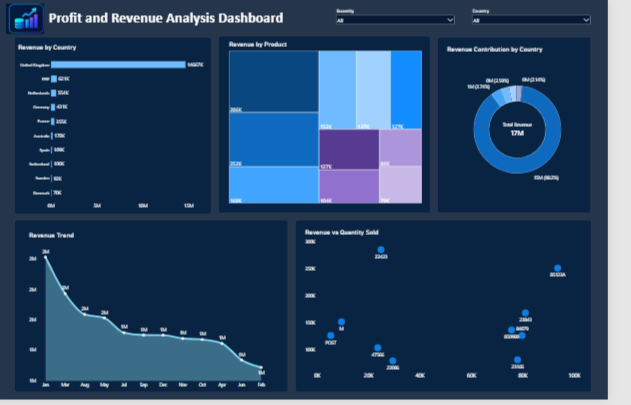

The page's visual inventory and layout, read from the dashboard file:
{"tool":"powerbi","page":{"name":"profit & Revenue dashboard","canvas":[3060,2000],"ordinal":7},"visuals":[{"type":"shape","box":[96,188,980,880],"z":0},{"type":"textbox","box":[265,44.2,1265,100.4],"z":1000},{"type":"clusteredBarChart","title":"Revenue by Country","fields":{"Category":["Factsales.Country"],"Y":["Factsales.Total Revenue"]},"box":[96,204,980,864],"z":2000},{"type":"shape","box":[1116,184,1056,880],"z":3000},{"type":"shape","box":[96,1104,1364,856],"z":4000},{"type":"treemap","title":"Revenue by Product","fields":{"Group":["Factsales.StockCode","Factsales.Description"],"Values":["Factsales.Total Revenue"]},"box":[1148,188,996,844],"z":5000},{"type":"shape","box":[1500,1104,1476,856],"z":6000},{"type":"lineChart","title":"Revenue Trend","fields":{"Category":["Factsales.Month"],"Y":["Factsales.Total Revenue"]},"box":[148,1144,1232,816],"z":7000},{"type":"shape","box":[2212,188,764,876],"z":8000},{"type":"scatterChart","title":"Revenue vs Quantity Sold","fields":{"Category":["Factsales.StockCode","Factsales.Description"],"X":["Factsales.Total Quantity Sold"],"Y":["Factsales.Total Revenue"]},"box":[1530,1132.4,1409.5,791.1],"z":9000},{"type":"donutChart","title":"Revenue Contribution by Country","fields":{"Category":["Factsales.Country"],"Y":["Factsales.Total Revenue"]},"box":[2240.8,212.8,734.9,819.2],"z":10000},{"type":"slicer","fields":{"Values":["Factsales.Country"]},"box":[2373.3,44.2,602.4,140.6],"z":11000},{"type":"slicer","fields":{"Values":["Factsales.Quantity"]},"box":[1694.6,44.2,602.4,120.5],"z":12000},{"type":"image","box":[32,20,232,152],"z":13000}]}

Visuals, with their boxes in screenshot pixels (x1, y1, x2, y2), scaled from the page's 3060x2000 canvas onto the 631x405 screenshot:
shape: 20,38,222,216
textbox: 55,9,316,29
"Revenue by Country" clusteredBarChart: 20,41,222,216
shape: 230,37,448,215
shape: 20,224,301,397
"Revenue by Product" treemap: 237,38,442,209
shape: 309,224,614,397
"Revenue Trend" lineChart: 31,232,285,397
shape: 456,38,614,215
"Revenue vs Quantity Sold" scatterChart: 316,229,606,390
"Revenue Contribution by Country" donutChart: 462,43,614,209
slicer - Factsales.Country: 489,9,614,37
slicer - Factsales.Quantity: 349,9,474,33
image: 7,4,54,35
